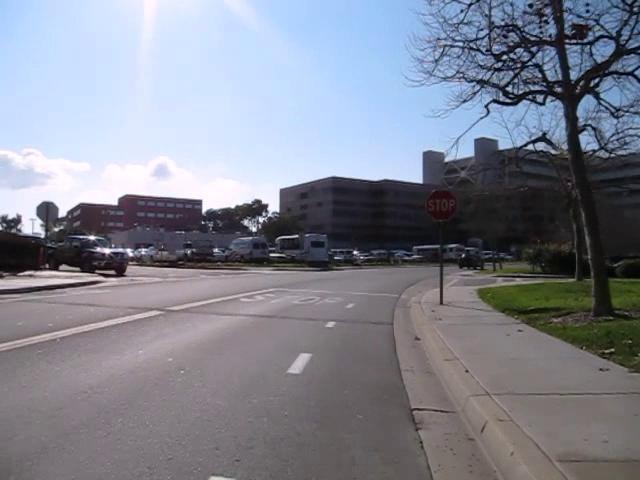stop: (423, 187, 459, 222)
